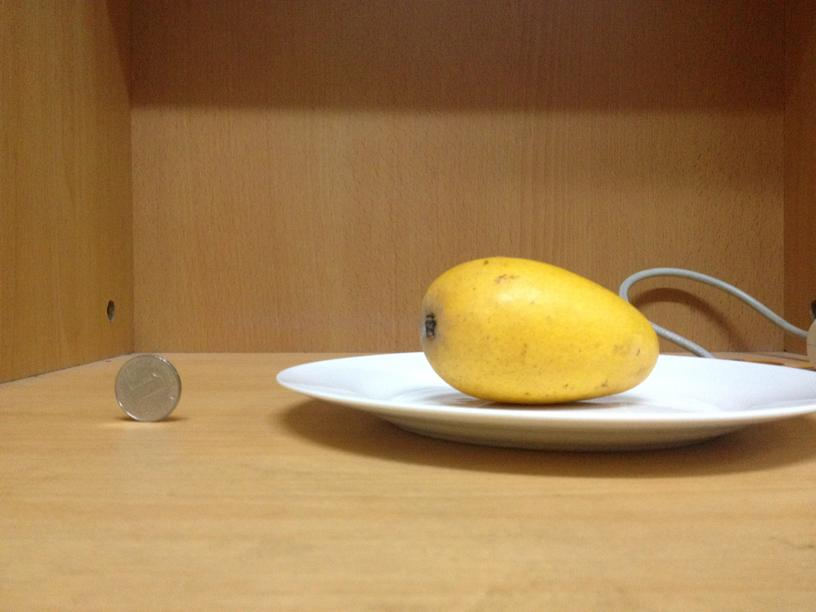coin: (113, 355, 182, 422)
mango: (412, 254, 659, 403)
